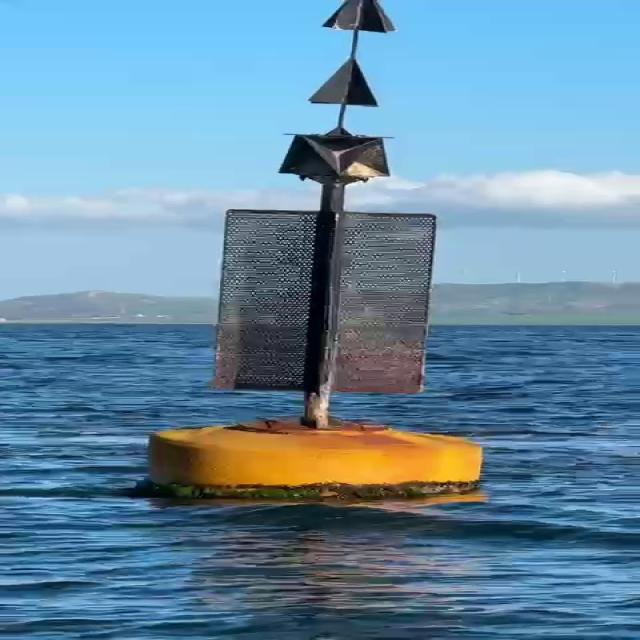marque: (132, 1, 490, 503)
